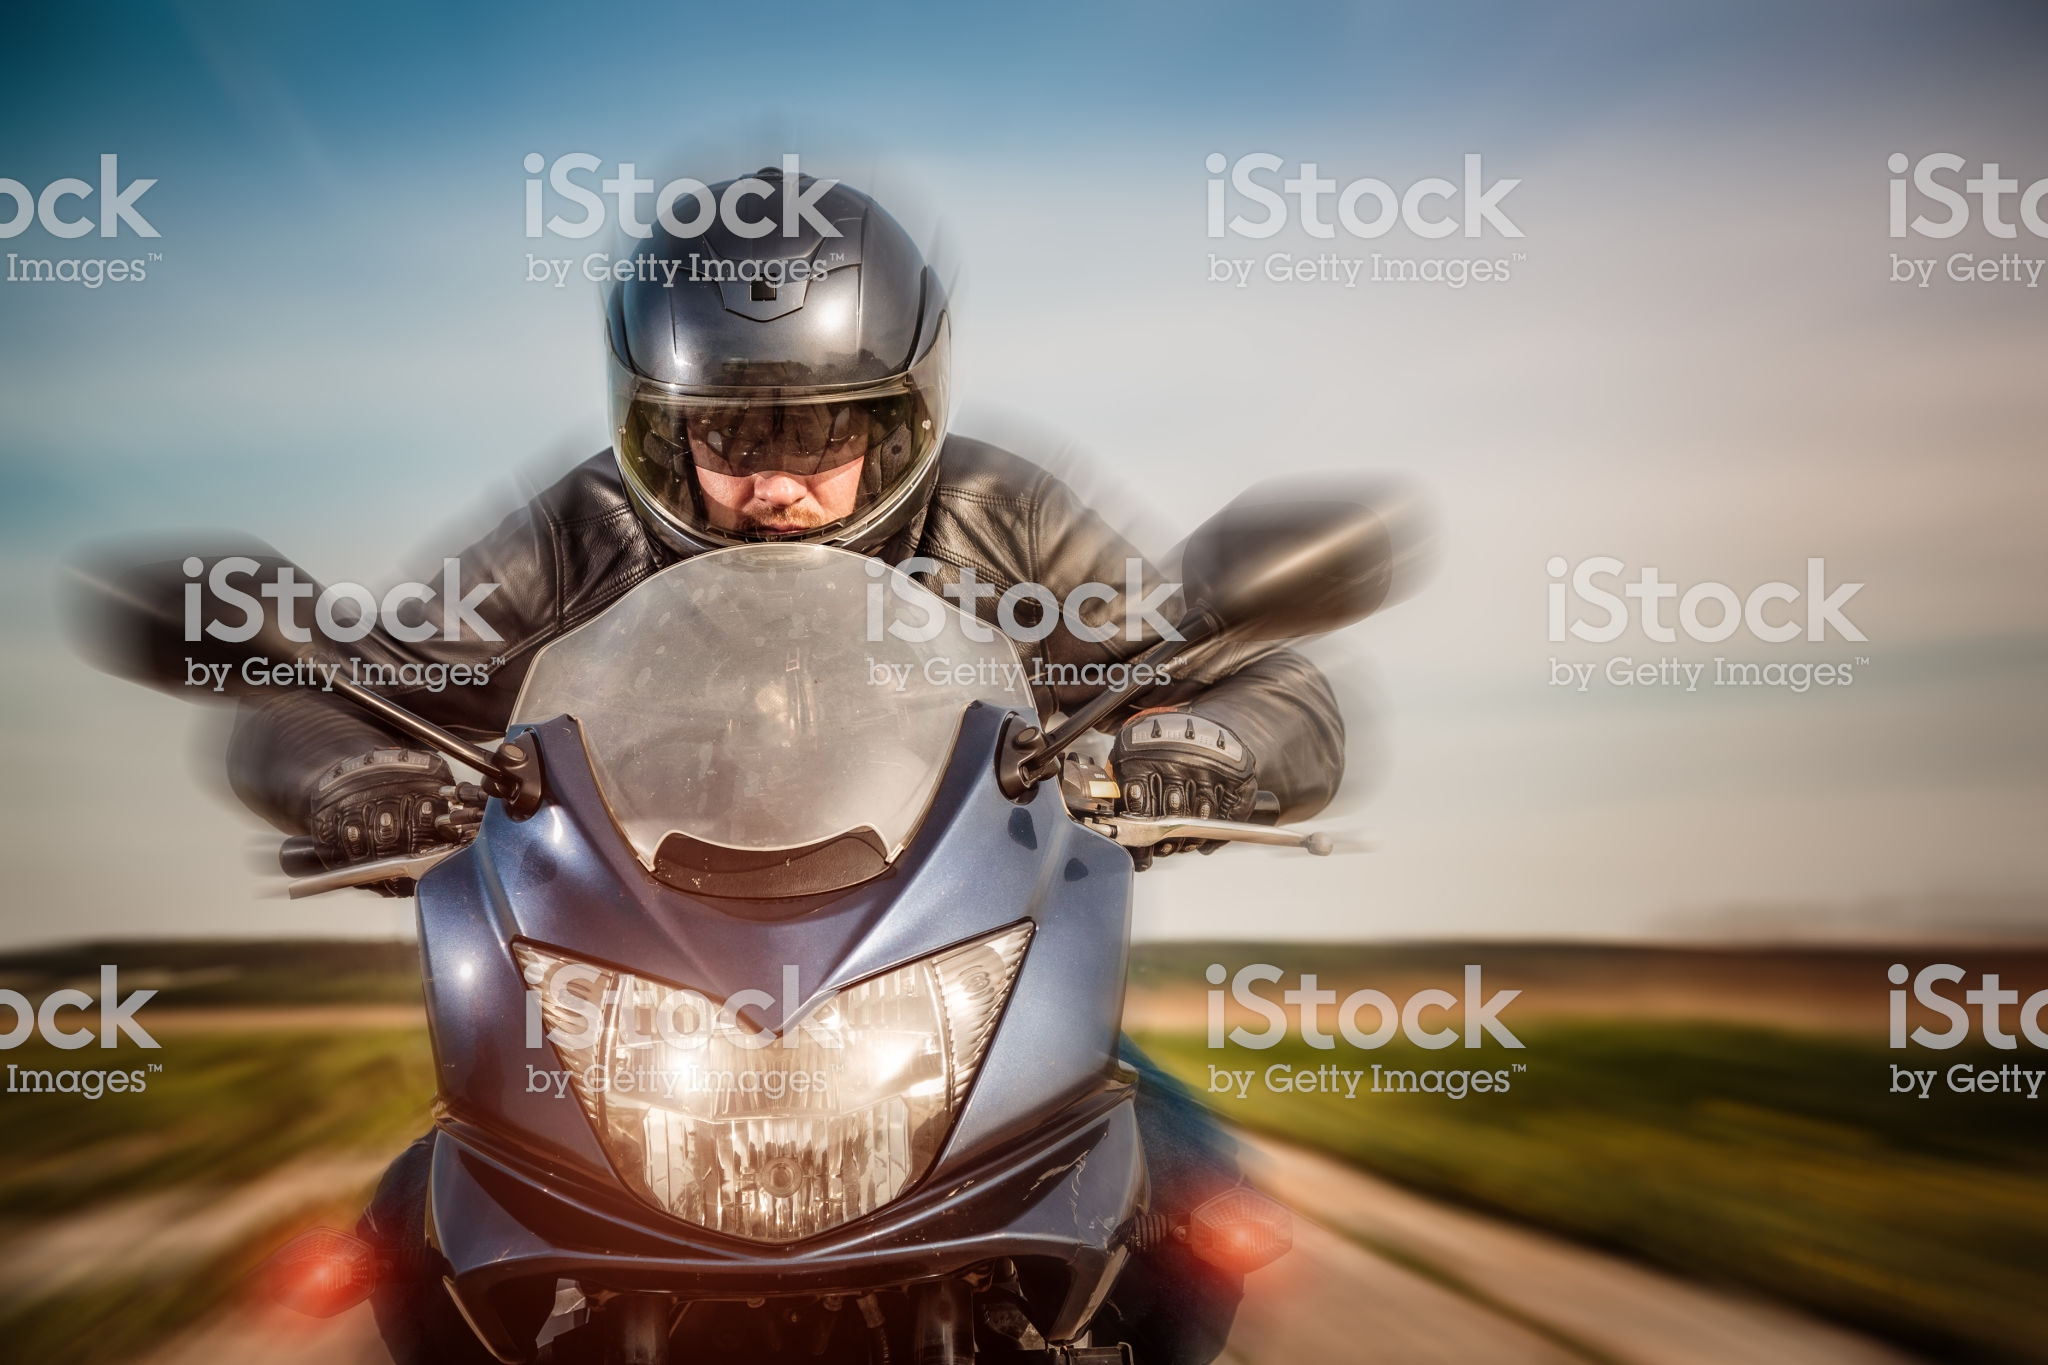helmet: (559, 154, 967, 590)
